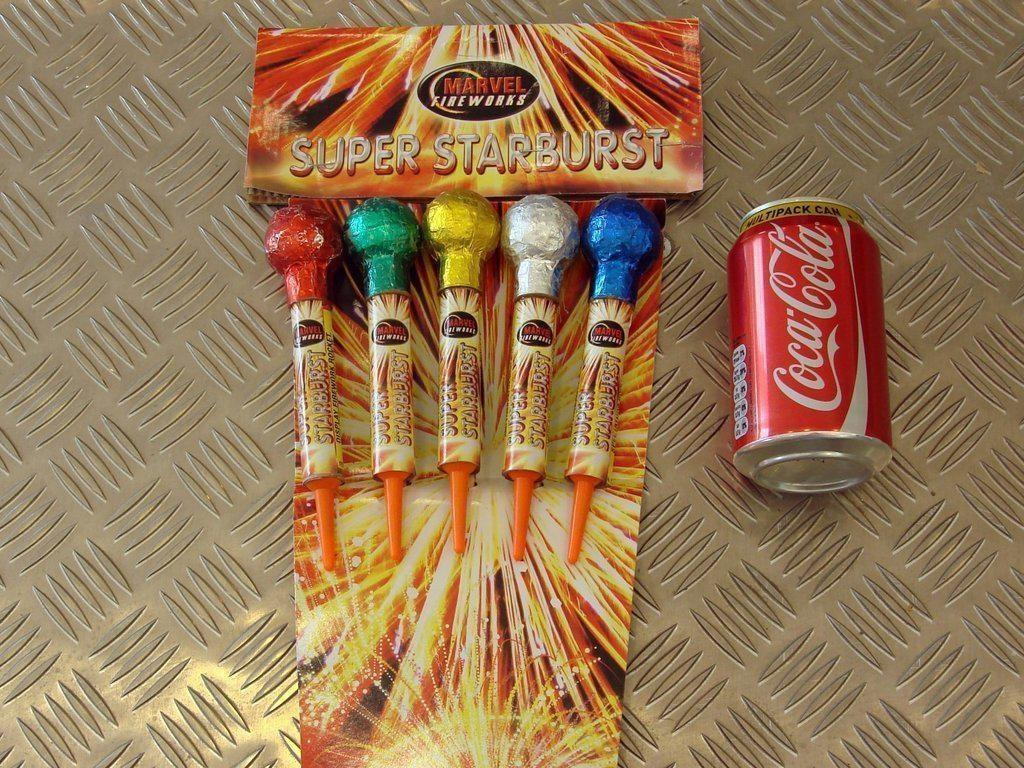tin can: (723, 196, 892, 499)
